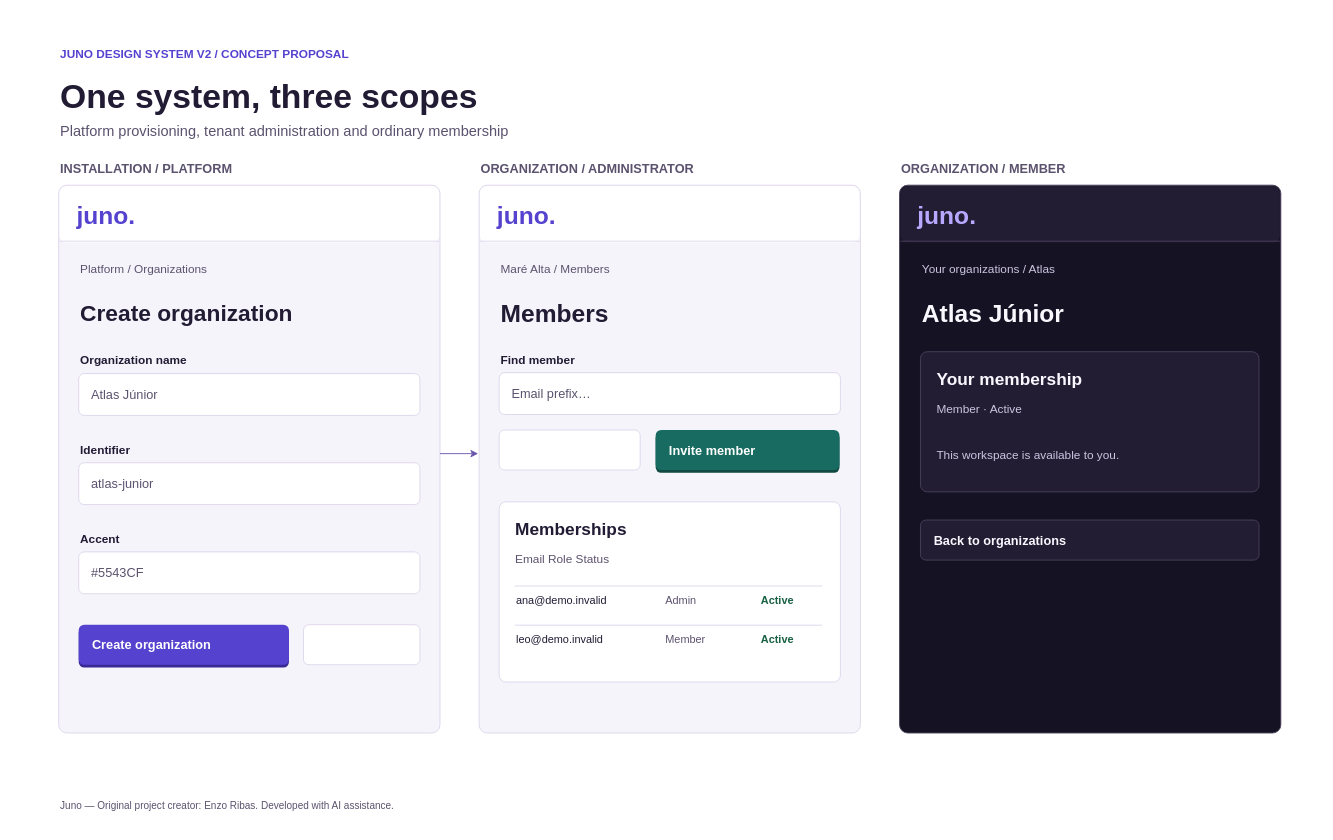
The diagram is 1333 pixels wide and 840 high, and some of its shapes have lost their labels. Here are the shapes that lost their labels. From the top down, the centre of each, then its label:
At point 569,449: "Filter".
At point 361,644: "Cancel".
